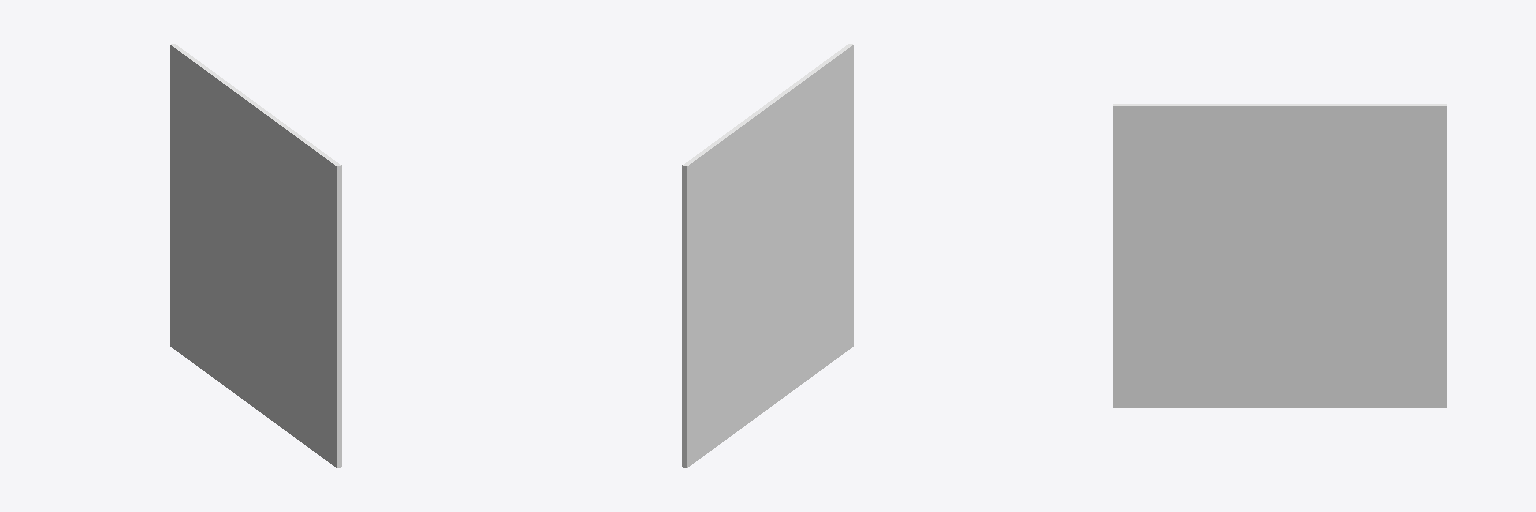
The model's file is skysides.obj.
The picture shows the model from 3 angles: view 1: azimuth 30°, elevation 25°; view 2: azimuth 150°, elevation 25°; view 3: azimuth 270°, elevation 25°; orthographic projection.
Bounding box in the file's own units: 2 × 126 × 126.